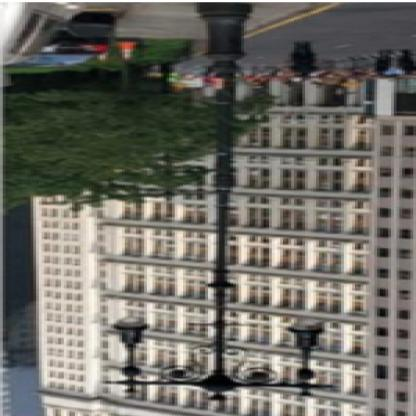Streetlights 1: (97, 1, 350, 409)
